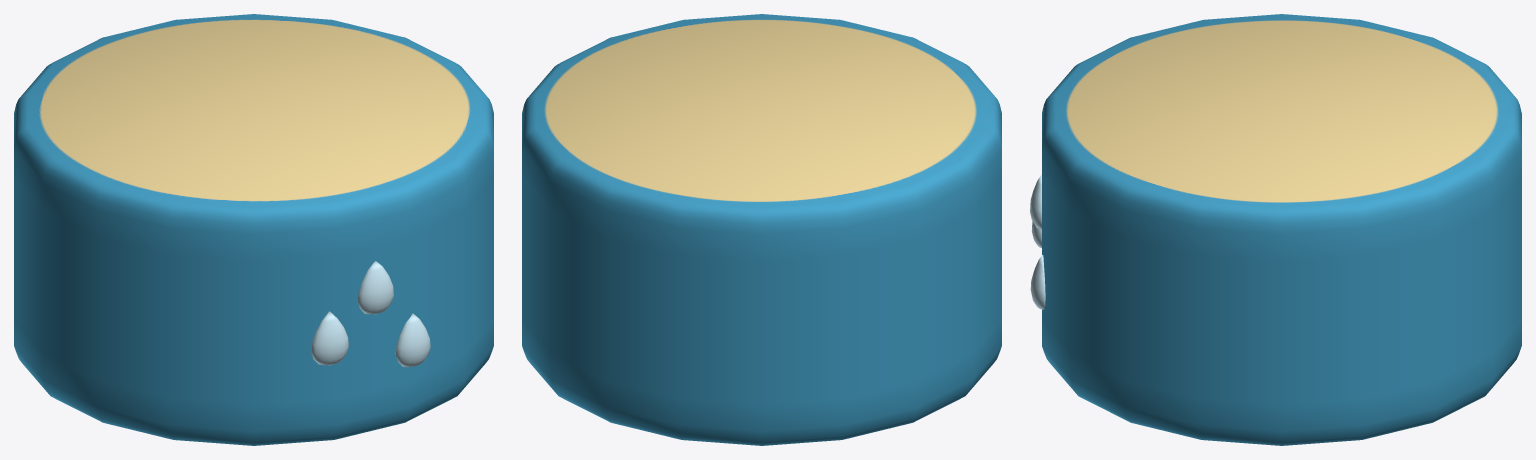
3 renders of one model, left to right at view 1: azimuth 30°, elevation 25°; view 2: azimuth 150°, elevation 25°; view 3: azimuth 270°, elevation 25°, orthographic.
Visible parts, largest first — view 1: WoodBlock2; view 2: WoodBlock2; view 3: WoodBlock2.
Boxes of the visible parts, left/top/right/bottom form: WoodBlock2: left=14, top=14, right=493, bottom=445; WoodBlock2: left=522, top=14, right=1001, bottom=445; WoodBlock2: left=1030, top=14, right=1521, bottom=445.
Bounding box in the file's own units: 809 × 436 × 816.
Materials: 1 (1 with a texture image).
